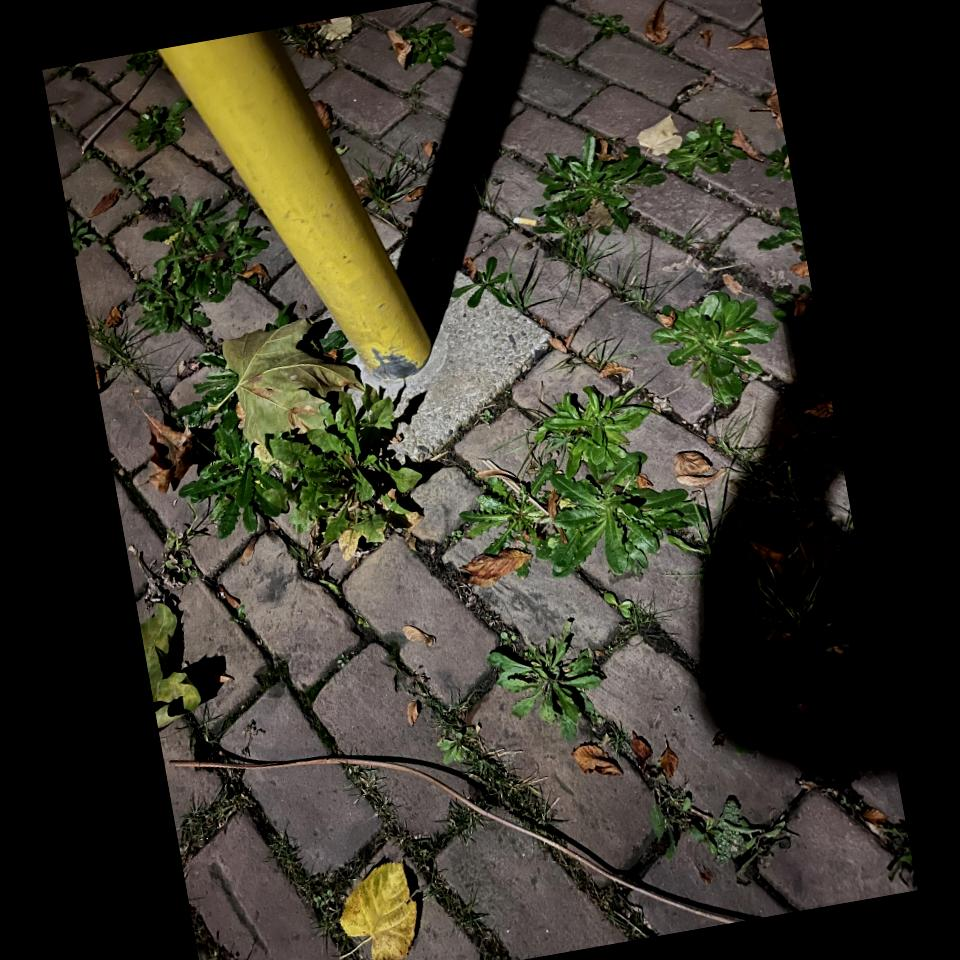weed: (445, 372, 677, 609), (189, 388, 451, 593), (117, 173, 266, 341), (509, 142, 669, 264), (481, 617, 610, 767), (669, 288, 779, 417), (737, 559, 849, 659), (668, 121, 766, 179), (350, 162, 421, 232), (711, 791, 768, 873), (450, 264, 536, 318), (86, 312, 136, 388), (390, 19, 447, 77), (136, 96, 190, 150), (577, 2, 631, 50)
